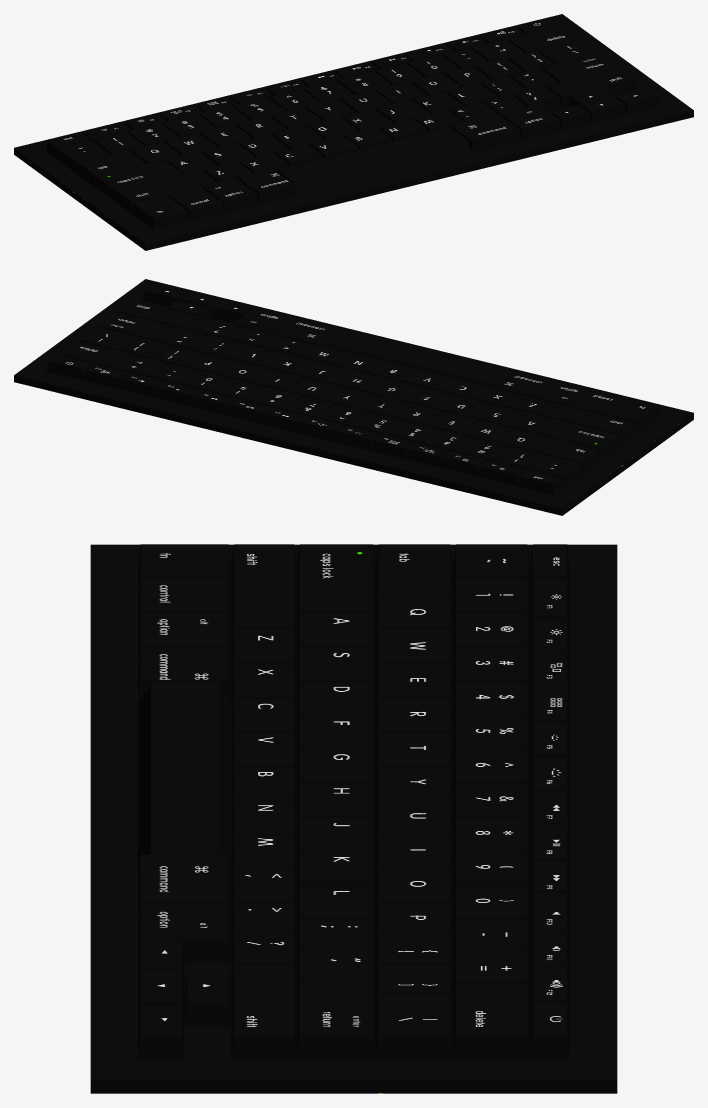
The model's file is keyboard..glb.
The picture shows the model from 3 angles, top to bottom: view 1: azimuth 30°, elevation 25°; view 2: azimuth 150°, elevation 25°; view 3: azimuth 270°, elevation 25°; orthographic projection. The views are drawn at different scales.
Visible parts, largest first — view 1: Keyboard1; view 2: Keyboard1; view 3: Keyboard1.
Boxes of the visible parts, bbox=[...] form: Keyboard1: bbox=[14, 14, 693, 250]; Keyboard1: bbox=[14, 279, 693, 515]; Keyboard1: bbox=[90, 544, 617, 1093].
Size of the model in its own units: 0.2683 by 0.0082 by 0.1115.
1 material, 1 textured.
